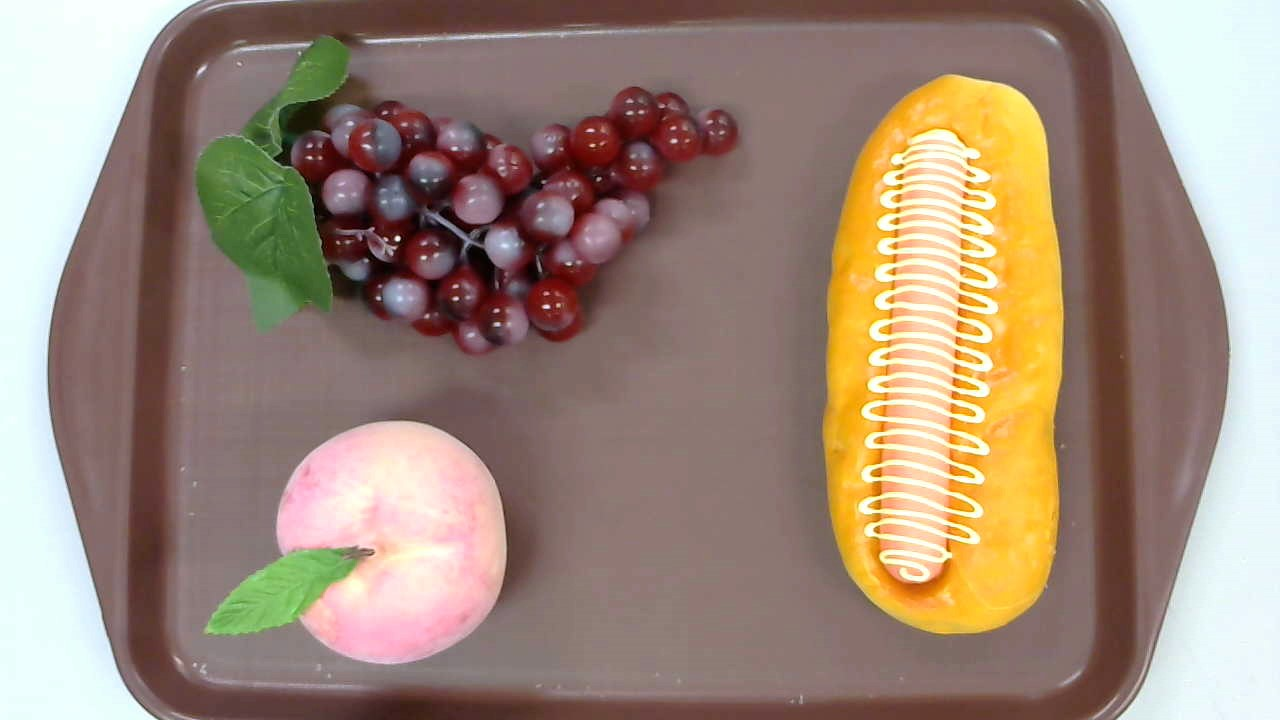grape: (195, 34, 743, 358)
hot dog: (821, 72, 1064, 636)
peach: (203, 420, 505, 664)
